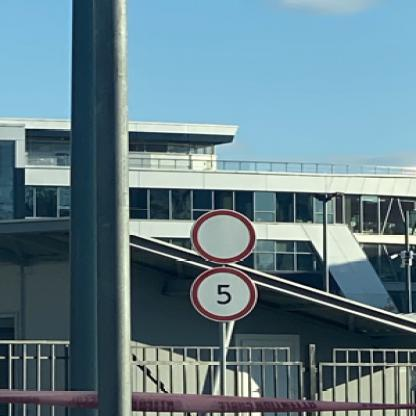speedlimit: (187, 266, 254, 322)
